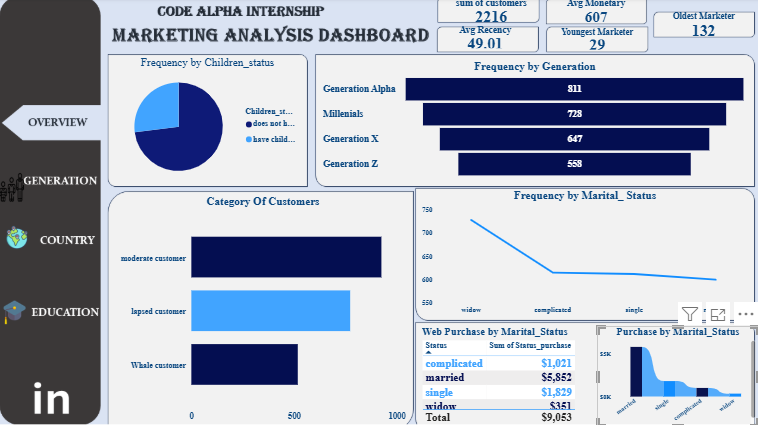

What the dashboard file says about the page in this screenshot:
{"tool":"powerbi","page":{"name":"Page 5","canvas":[1280,720],"ordinal":4},"visuals":[{"type":"columnChart","fields":{"Category":["Country by Education.Country"],"Y":["Sum(Country by Education.Educatonal_Country)"]},"box":[10.1,0,616.5,280.5],"z":0},{"type":"clusteredBarChart","title":"Category Of Customers","fields":{"Category":["customer segmentation.Category"],"Y":["Sum(customer segmentation.count_category)"]},"box":[10.1,295.6,616.5,374.6],"z":1000},{"type":"columnChart","fields":{"Category":["customers by marital class.Status"],"Y":["Sum(customers by marital class.marital_class)"]},"box":[636,0,616,281],"z":2000},{"type":"card","fields":{"Values":["Sum(AVG frequency.average_monetary)"]},"box":[670.2,472,169.7,176.4],"z":3000},{"type":"card","title":"Avg Recency","fields":{"Values":["Sum(AVG recency.avg_recency)"]},"box":[1054.8,360.3,140.3,45],"z":4000},{"type":"card","fields":{"Values":["Sum(AVG Income per customer.average_income_customer_per)"]},"box":[661.8,280.5,282.2,186.5],"z":5000},{"type":"card","title":"Avg Monetary","fields":{"Values":["Sum(AVG frequency.average_monetary)"]},"box":[944,602.8,135.1,46.8],"z":6000},{"type":"pieChart","title":"Frequency by Children_status","fields":{"Category":["avg_Childrenstatus_frequency.Children_status"],"Y":["Sum(avg_Childrenstatus_frequency.Children_frequency)"]},"box":[839.9,472,411.5,198.2],"z":7000}]}

Visuals, with their boxes on the page's 1280x720 design canvas (x1, y1, x2, y2). These are canvas units, not pixel positions in the 758x425 screenshot, which may show the page scaled, cropped or inside an application window:
columnChart - Country by Education.Country x Sum(Country by Education.Educatonal_Country): locate(10, 0, 627, 280)
"Category Of Customers" clusteredBarChart: locate(10, 296, 627, 670)
columnChart - customers by marital class.Status x Sum(customers by marital class.marital_class): locate(636, 0, 1252, 281)
card - Sum(AVG frequency.average_monetary): locate(670, 472, 840, 648)
"Avg Recency" card: locate(1055, 360, 1195, 405)
card - Sum(AVG Income per customer.average_income_customer_per): locate(662, 280, 944, 467)
"Avg Monetary" card: locate(944, 603, 1079, 650)
"Frequency by Children_status" pieChart: locate(840, 472, 1251, 670)
